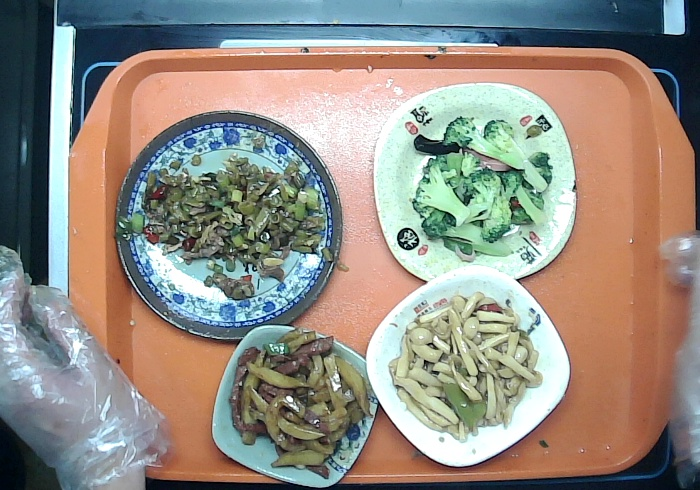NLDX-Bai_Se_Xiao_Fang_Die: (363, 262, 574, 468)
NLDX-Fu_Zi_Fang_Die: (372, 79, 577, 282)
NLDX-Qing_Hua_Xiao_Fang_Die: (210, 323, 381, 487)
NLDX-Qing_Hua_Yuan_Die: (113, 108, 345, 342)
